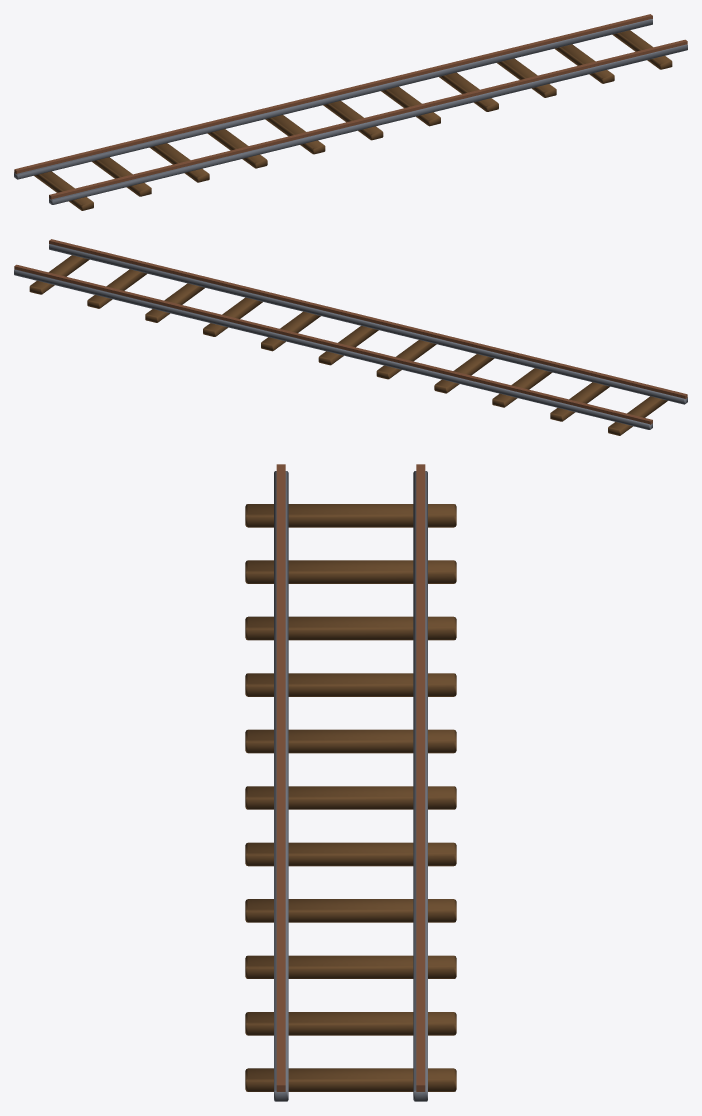
The model's file is v_rail.glb.
The picture shows the model from 3 angles, top to bottom: view 1: azimuth 30°, elevation 25°; view 2: azimuth 150°, elevation 25°; view 3: azimuth 270°, elevation 25°; orthographic projection. The views are drawn at different scales.
Visible parts, largest first — view 1: Rail; view 2: Rail; view 3: Rail.
Boxes of the visible parts, x1,y1,x2,y2 form: Rail: (14,14,687,210); Rail: (14,239,687,435); Rail: (245,464,456,1101).
Size of the model in its own units: 8 by 0.18 by 1.15.
